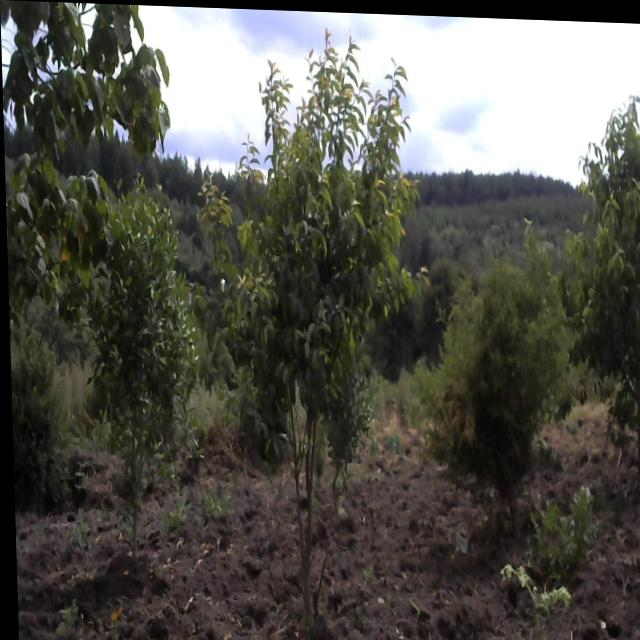Lemon Myrtle: (206, 47, 415, 620)
Vitex keniensis: (2, 0, 167, 270)
